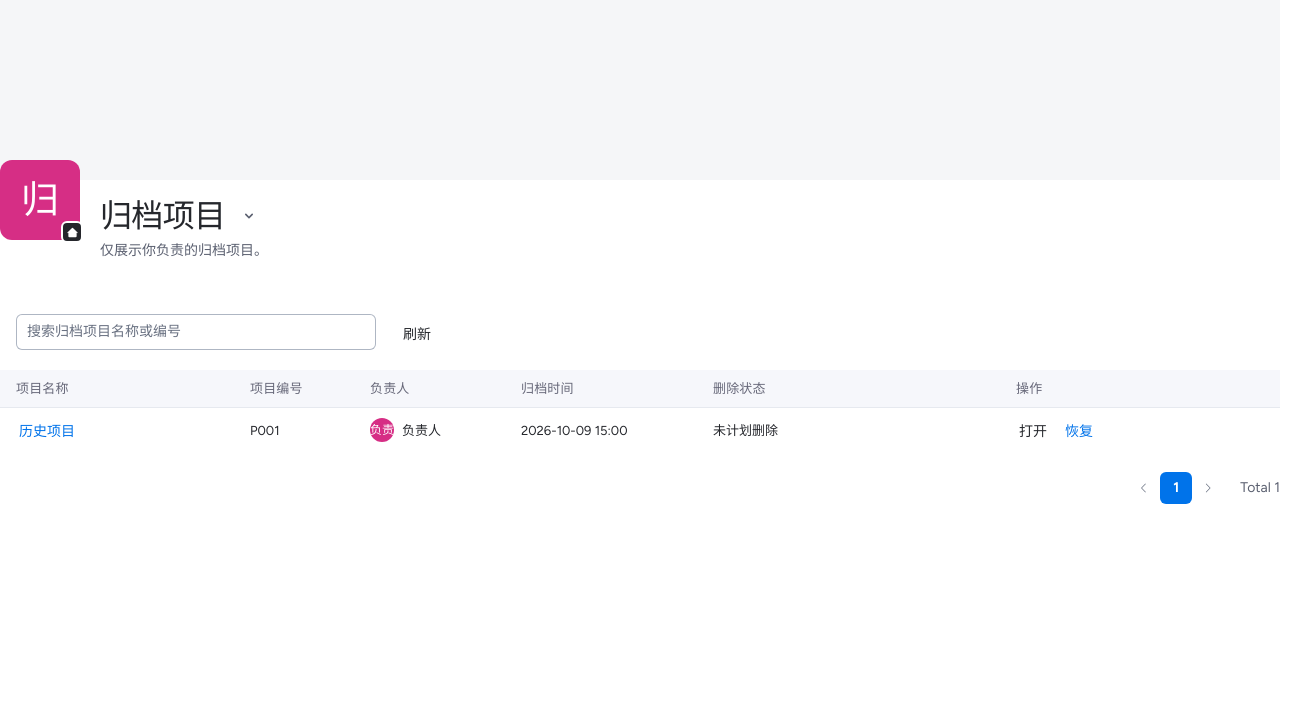
Test: 归档项目页 › 负责人恢复使用当前版本和幂等键并刷新归档列表
Click the button "恢复" at (1079, 431), box [1062, 421, 1096, 441]
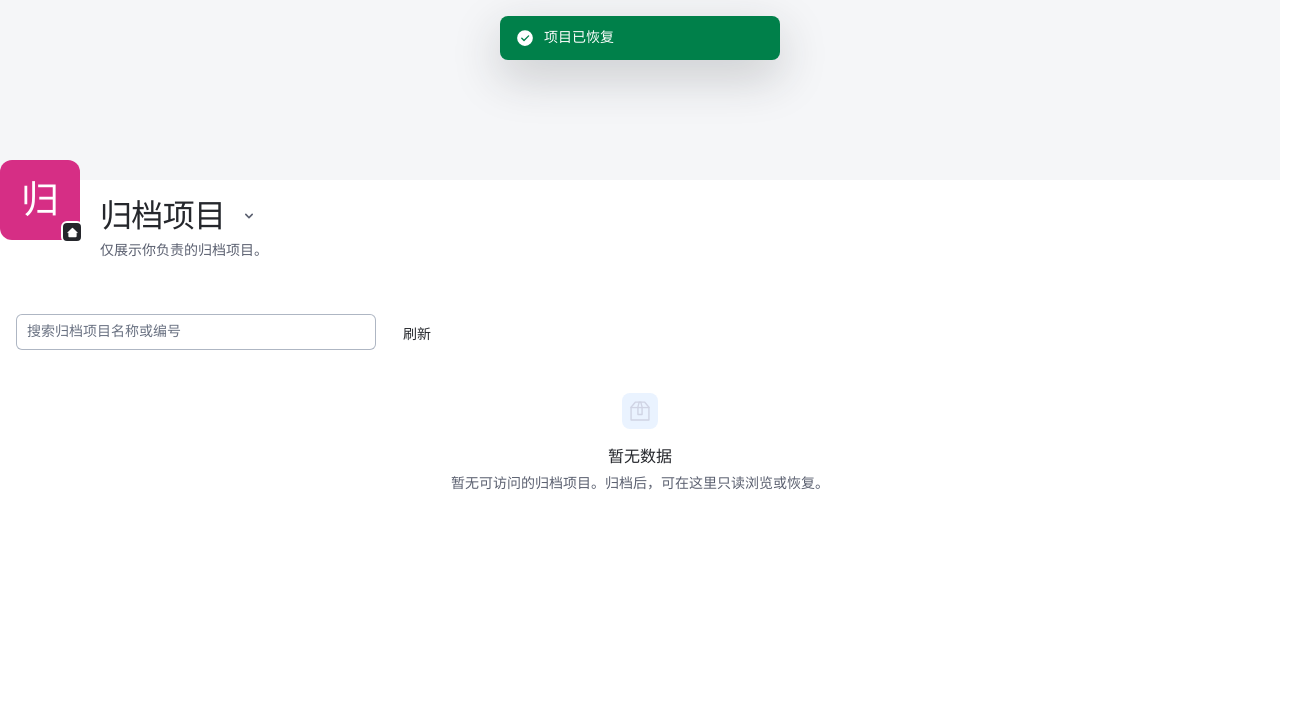
expect the text "暂无可访问的归档项目" is shown: met, box [451, 475, 829, 492]
